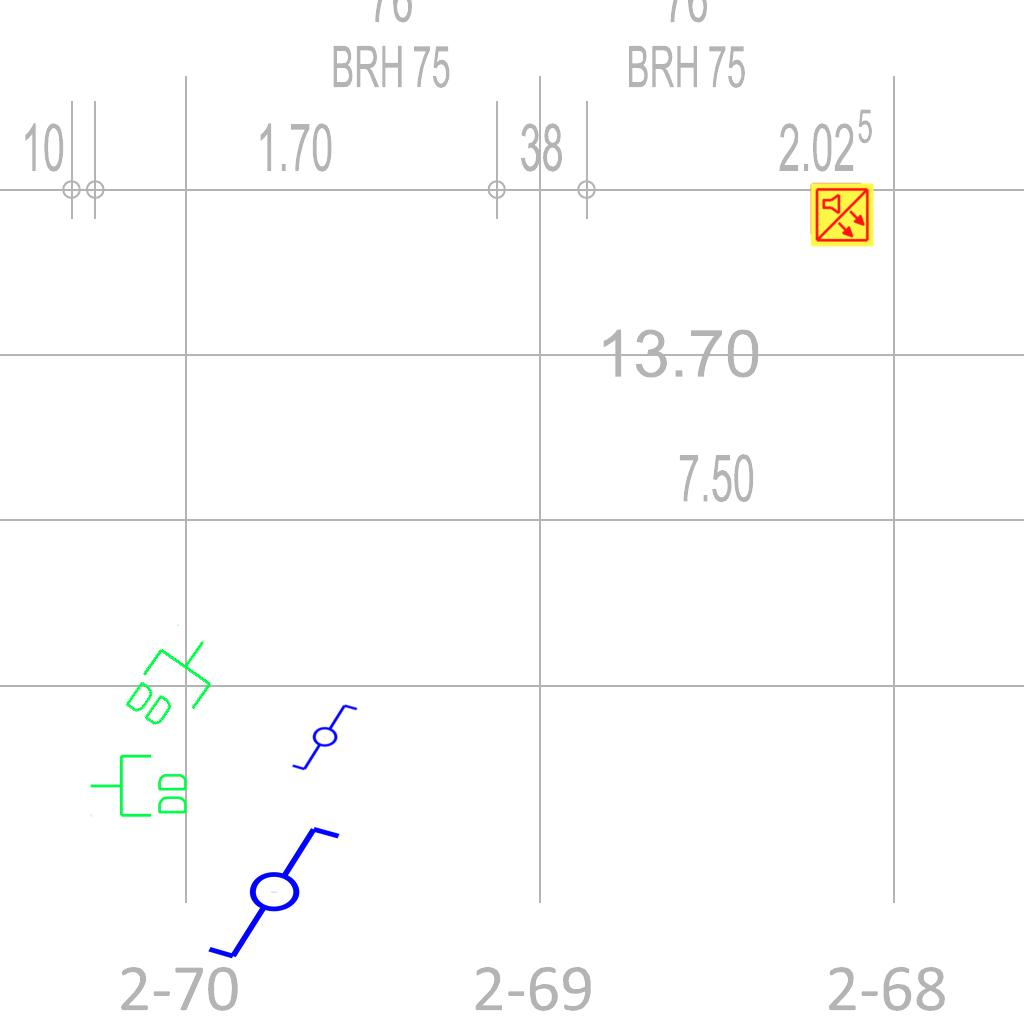Datenanschluss_zweifach: (116, 619, 233, 744), (88, 752, 191, 821)
OKW_Multisensormelder_(Kombination_optischer_Rauch-Kahlenmonoxid_Waerme-Melder): (809, 182, 875, 248)
Wechselschalter: (204, 822, 361, 966), (290, 702, 368, 774)
